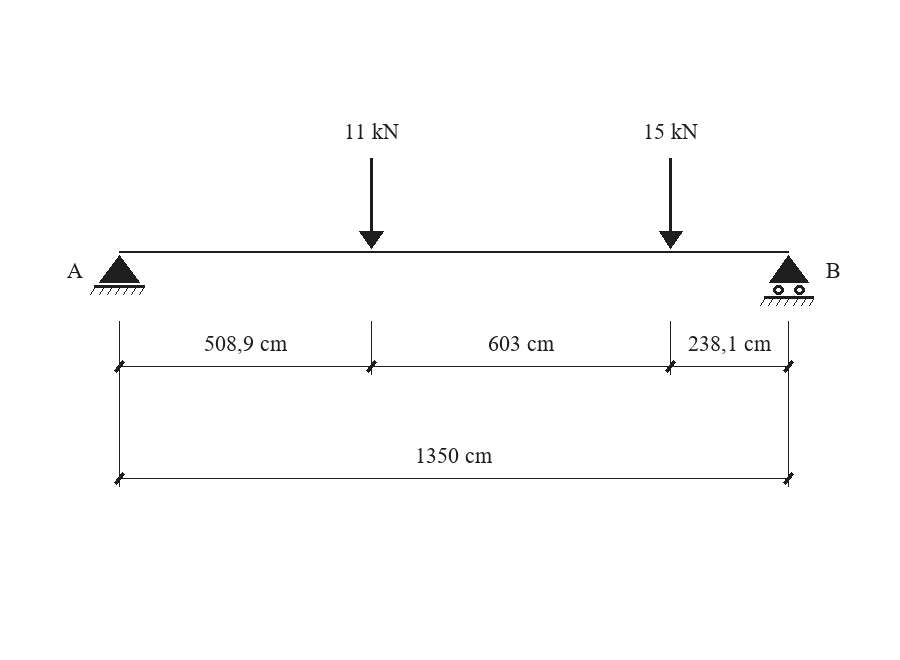pin_support: (90, 255, 145, 295)
point_load: (359, 158, 384, 249), (659, 158, 683, 249)
roller_support: (760, 255, 814, 306)
